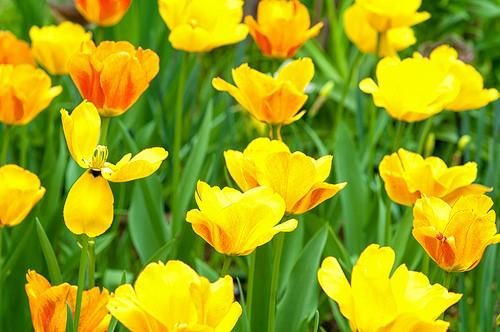tulip: (60, 103, 169, 234), (319, 244, 463, 332), (105, 258, 246, 332), (225, 136, 348, 215), (183, 181, 298, 256), (210, 54, 313, 126), (70, 35, 160, 114), (246, 0, 326, 55), (0, 67, 61, 126), (1, 165, 44, 227)
